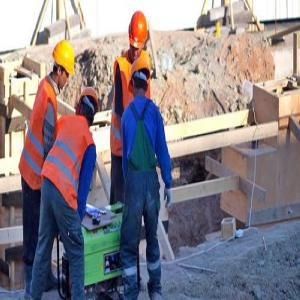yellow: (53, 41, 76, 93), (128, 8, 149, 60), (76, 86, 99, 127), (129, 59, 151, 100)
